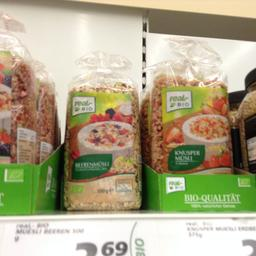cereal: (66, 72, 140, 210), (150, 60, 233, 178), (0, 57, 41, 162)
